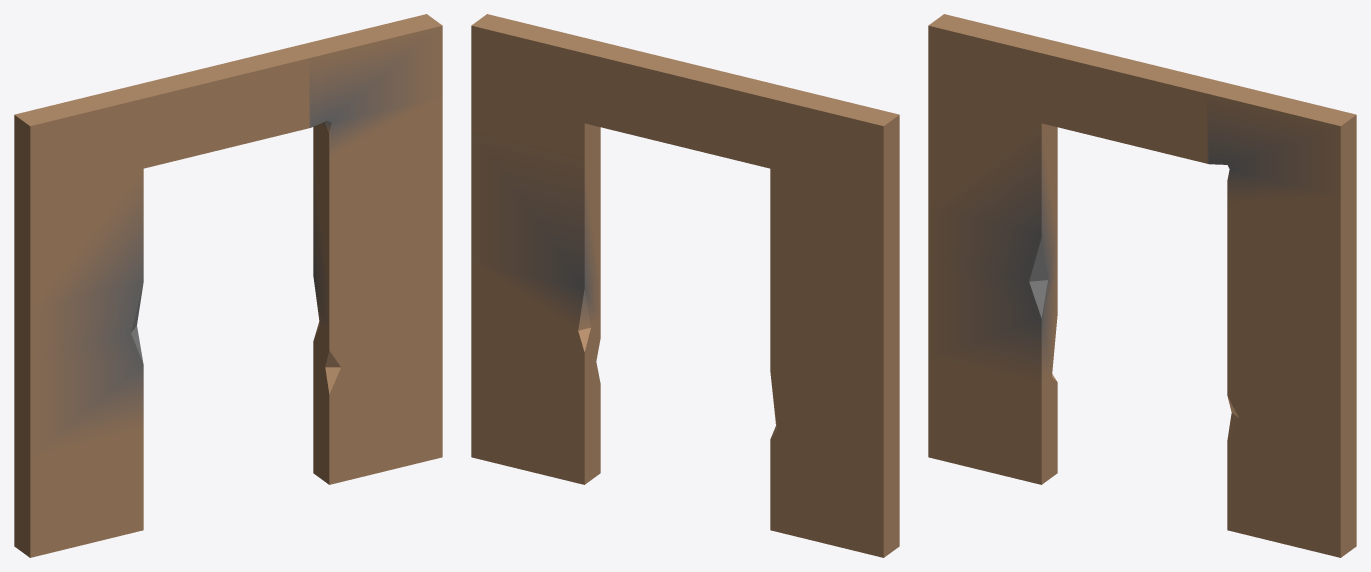
File: ConcreteDoorway3M.fbx
3 views of the same model, side by side, from view 1: azimuth 30°, elevation 25°; view 2: azimuth 150°, elevation 25°; view 3: azimuth 330°, elevation 25° (orthographic).
Parts seen in each view (by area): view 1: ConcreteDoorway3M; view 2: ConcreteDoorway3M; view 3: ConcreteDoorway3M.
Boxes of the visible parts, left/top/right/bottom form: ConcreteDoorway3M: left=14, top=14, right=442, bottom=557; ConcreteDoorway3M: left=471, top=14, right=899, bottom=557; ConcreteDoorway3M: left=928, top=14, right=1356, bottom=557.
Bounding box in the file's own units: 3 × 3 × 0.2.
